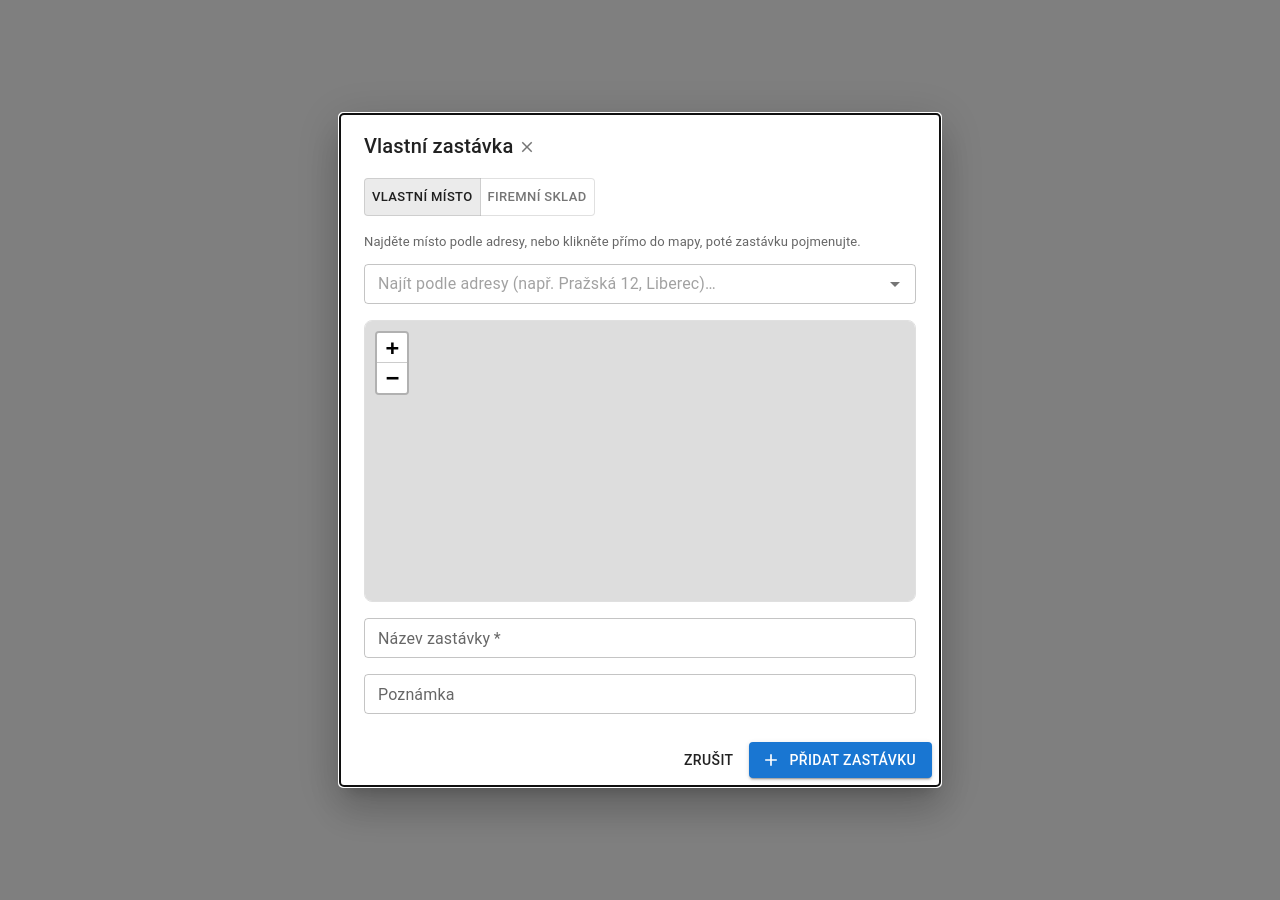
Test: CustomStopDialog › hides the map picker in company mode
Click the button "Firemní sklad". click: (537, 197)
box: left=480, top=178, right=594, bottom=216
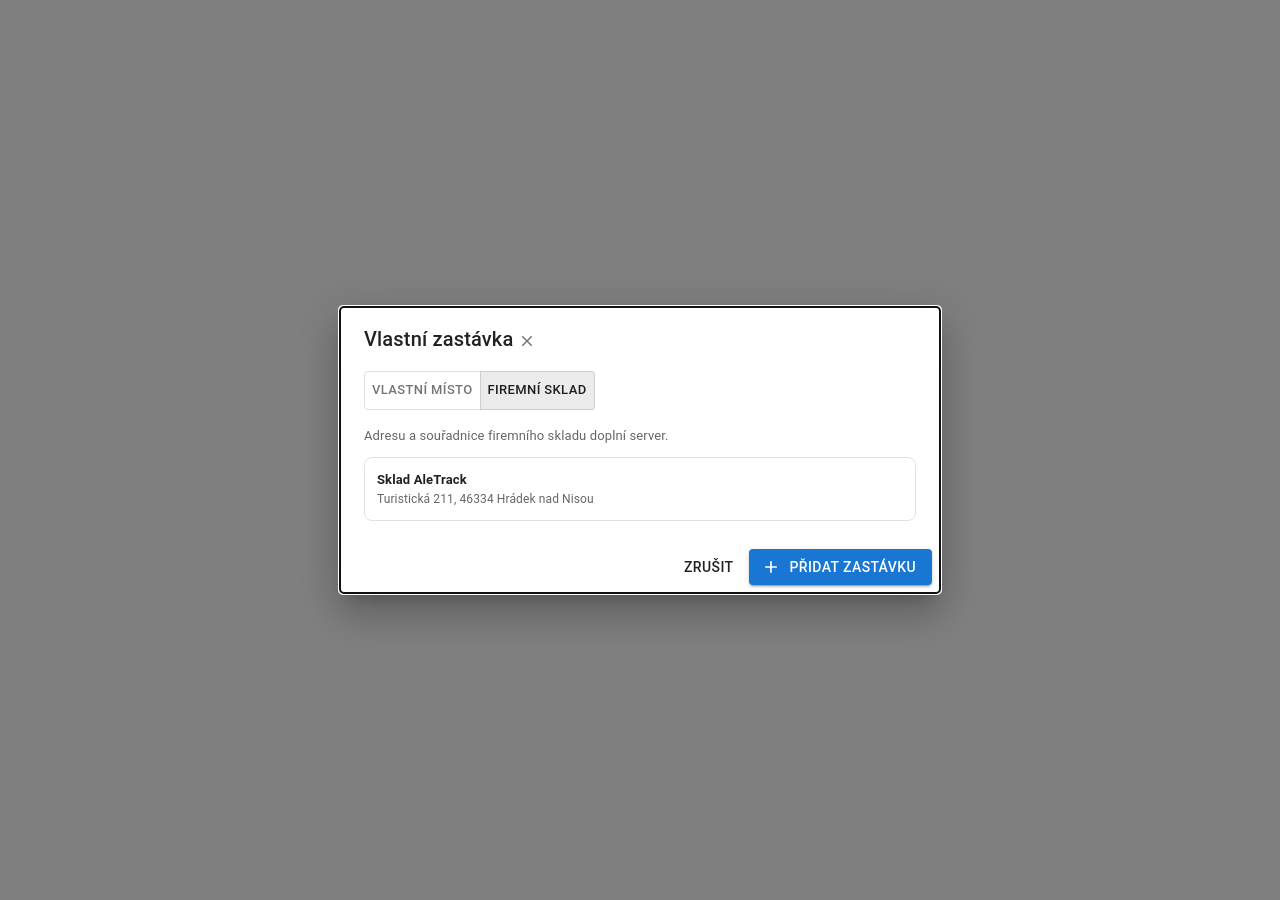
Expected: the label labelled "Název zastávky" is gone
